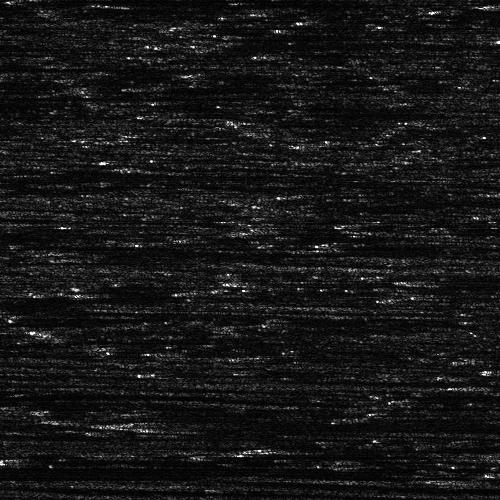rock: (49, 414, 236, 431), (447, 381, 500, 390), (35, 452, 66, 461), (95, 1, 148, 6), (476, 453, 500, 462), (475, 2, 500, 7)
shadow: (143, 414, 392, 431), (0, 154, 155, 179), (0, 168, 200, 183), (0, 91, 216, 100), (0, 464, 121, 477), (51, 452, 215, 461), (122, 1, 359, 6), (479, 381, 500, 390)
